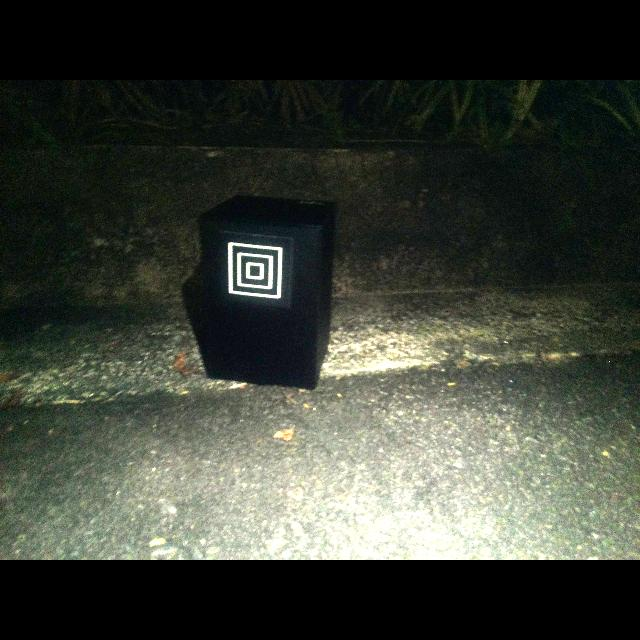BULLSEYE: (228, 242, 283, 299)
